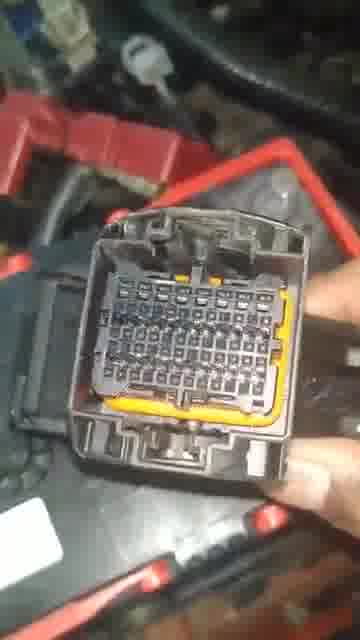connector: (67, 208, 310, 482)
